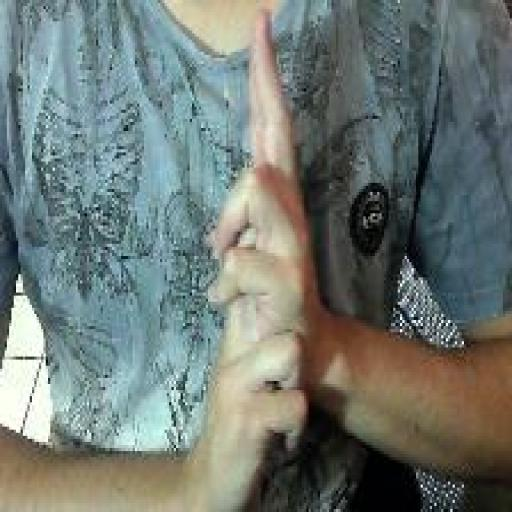Hitsuji -ram-: (203, 6, 311, 509)
